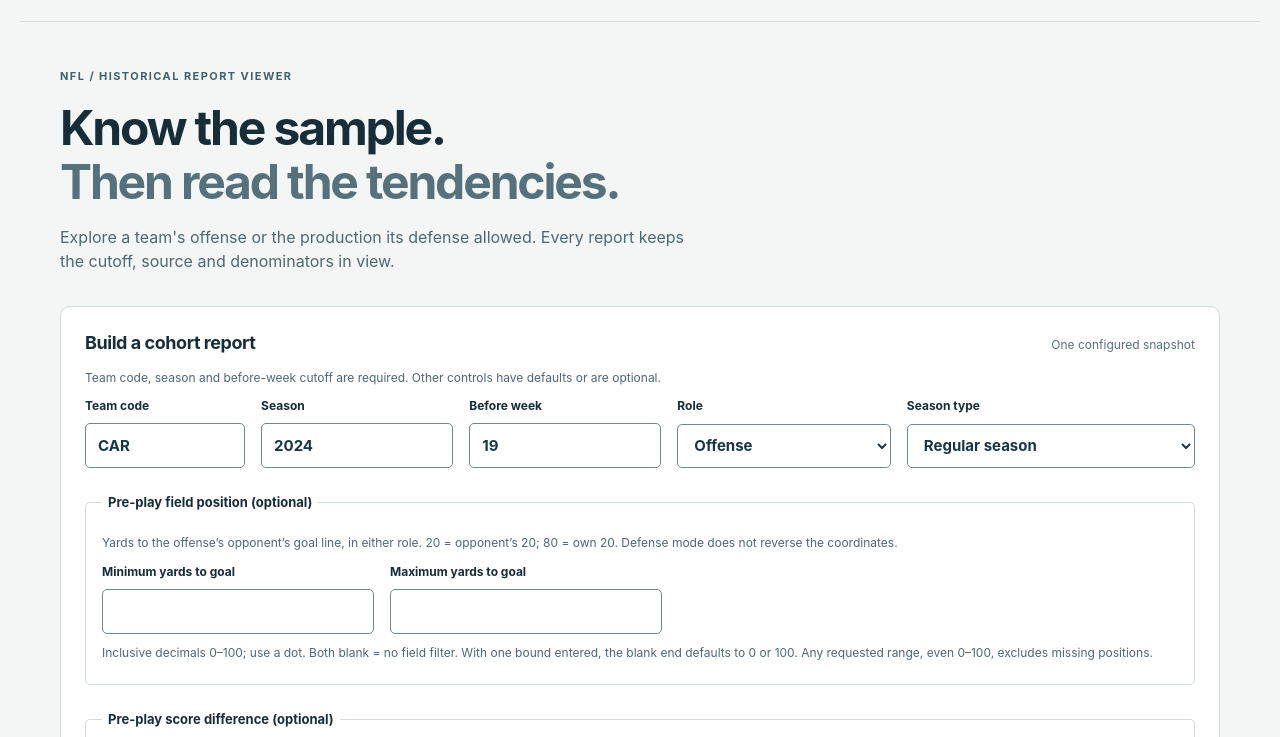
Test: download follows the displayed response, never a stale draft › clears and revokes the ready download immediately on a query edit
Replace the text in the number field labelled "Before week" with "3" at (565,446), box [469,423,661,468]
(page scrolled)
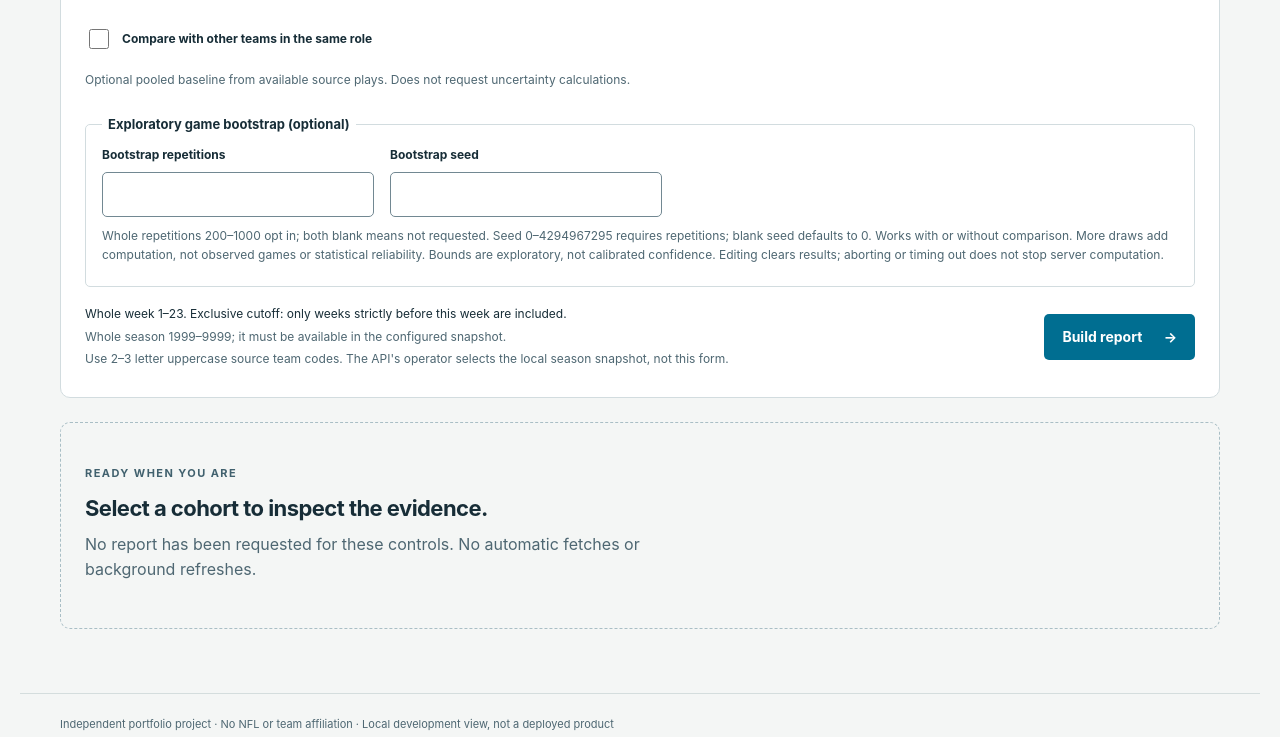
Click the button "Build report →" at (1120,337), box [1044,314,1195,360]
(page scrolled)
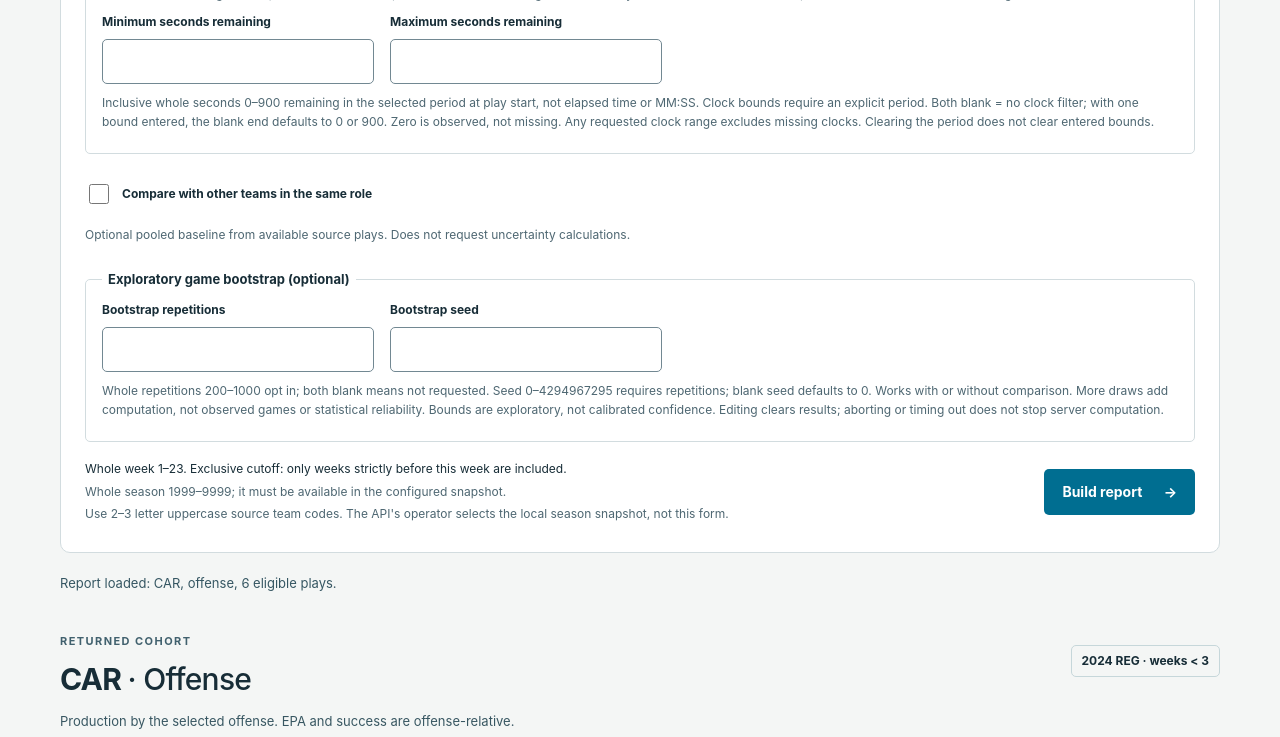
Type "0" into the field labelled "Bootstrap seed" at (526,349), box [390,327,662,372]
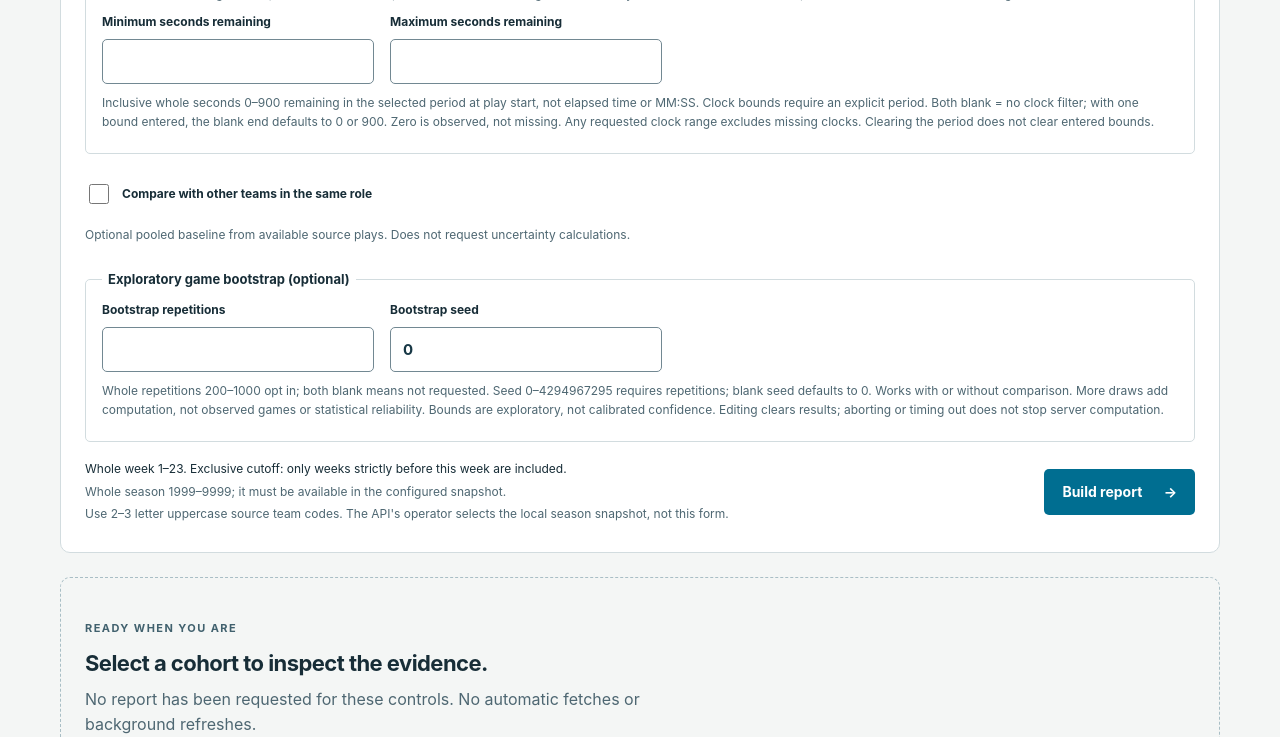
Click the button "Build report →" at (1120,492), box [1044,469,1195,515]
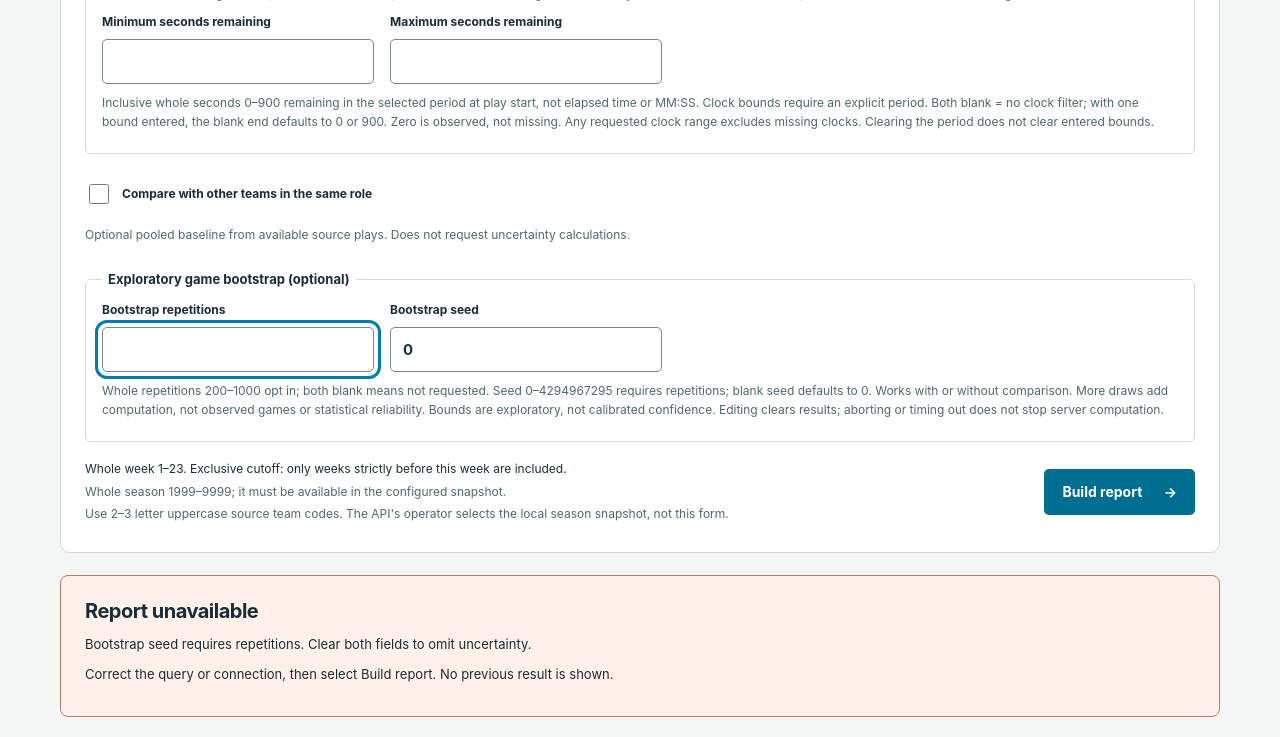
Now the message shows "seed requires repetitions", box [85,636,531,652]
